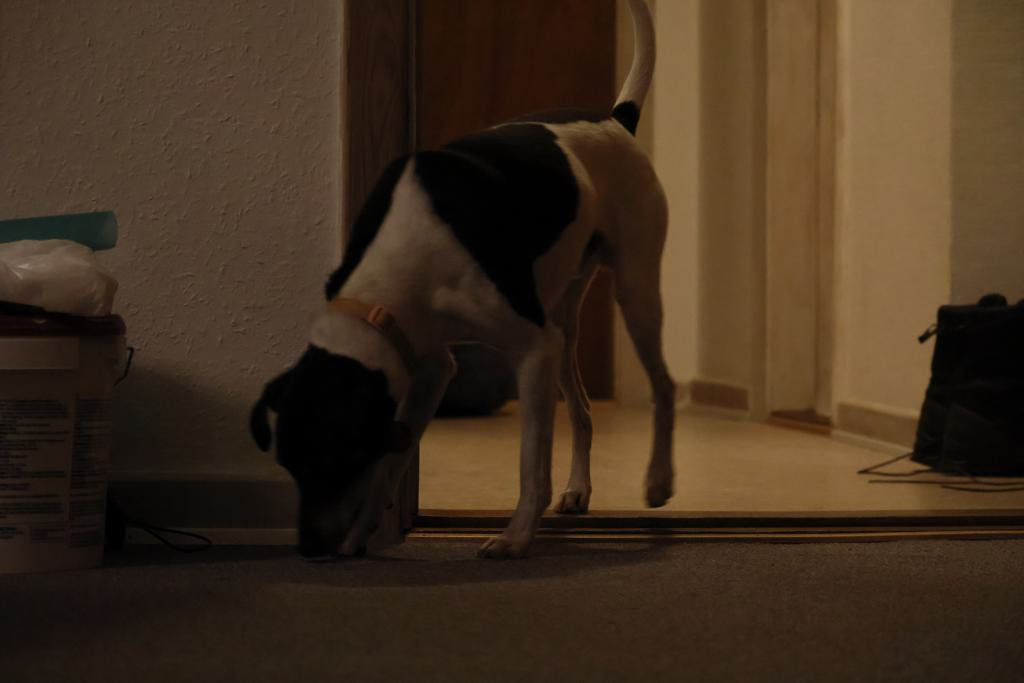Dog: (234, 0, 690, 576)
